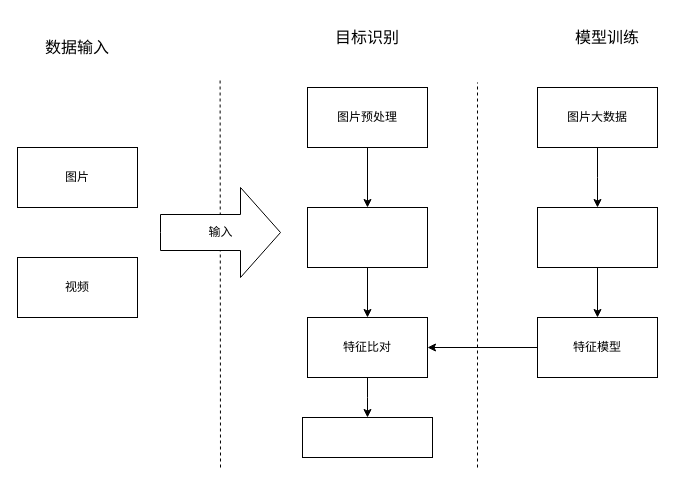
Some shapes in this 675 by 486 pixel diagram are drawn without their labels. Each missing label, with the centre of its shape:
深度学习: (x=597, y=237)
特征提取: (x=367, y=237)
结果输出: (x=367, y=437)
